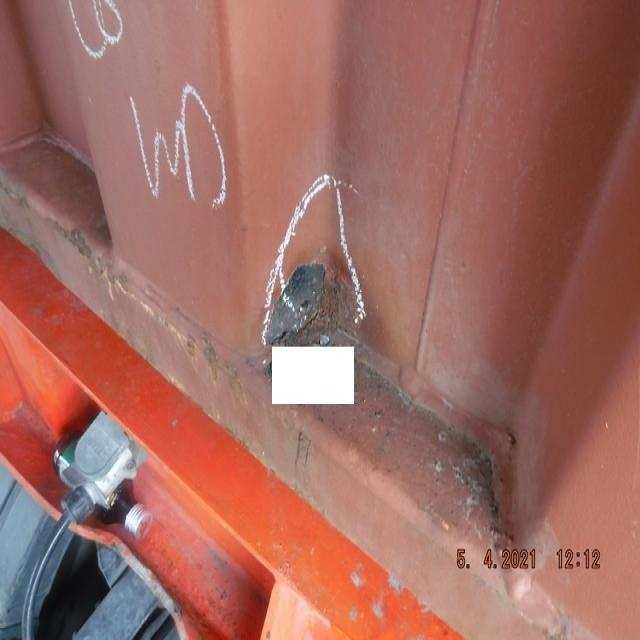rust: (263, 258, 329, 348), (326, 275, 359, 340)
